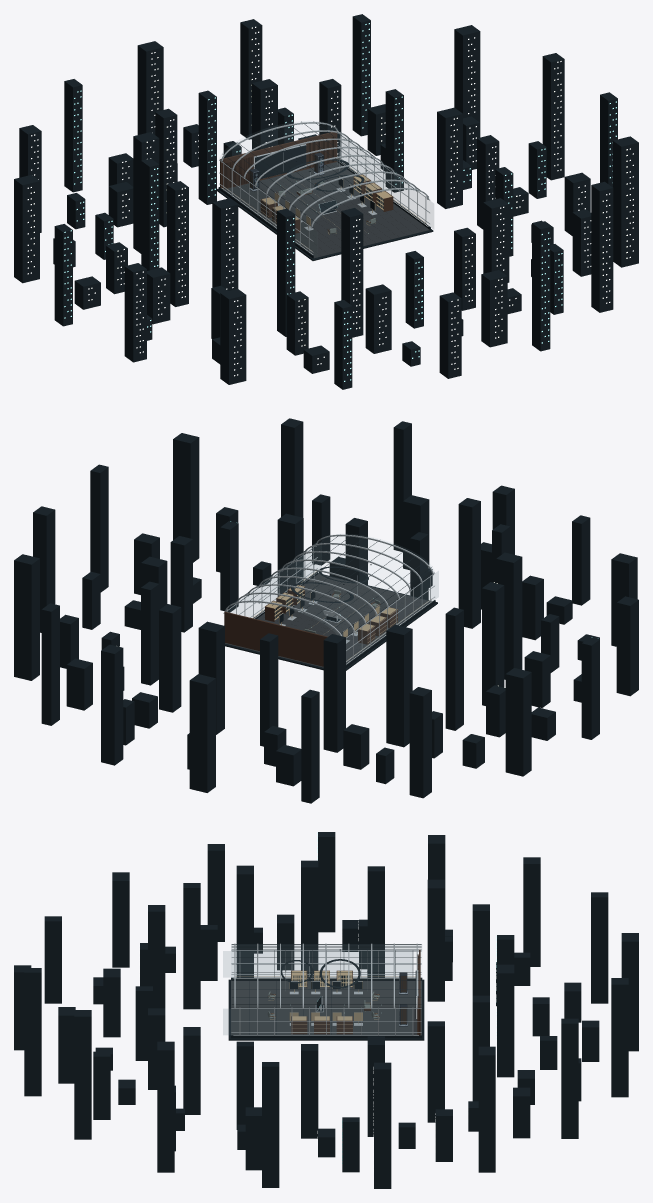
Rendered from resonance-pavilion.glb.
3 renders of one model, top to bottom at view 1: azimuth 30°, elevation 25°; view 2: azimuth 150°, elevation 25°; view 3: azimuth 270°, elevation 25°, orthographic.
Parts seen in each view (by area): view 1: graphite (×2), basalt, brushed-aluminium, architectural-glass, warm-light, walnut, cyan-light; view 2: graphite, basalt, brushed-aluminium, architectural-glass, walnut; view 3: graphite, architectural-glass, basalt, brushed-aluminium, warm-light.
Part boxes in pixels (x1,y1,x2,y2): graphite (×2): (14, 14, 638, 389); basalt: (224, 162, 429, 258); brushed-aluminium: (219, 122, 430, 252); architectural-glass: (224, 130, 433, 257); warm-light: (27, 26, 633, 376); walnut: (220, 131, 337, 189); cyan-light: (64, 23, 616, 381); graphite: (14, 418, 638, 803); basalt: (225, 574, 431, 667); brushed-aluminium: (223, 534, 434, 661); architectural-glass: (228, 542, 438, 663); walnut: (224, 611, 327, 666); graphite: (14, 832, 638, 1188); architectural-glass: (223, 944, 421, 1034); basalt: (231, 980, 421, 1035); brushed-aluminium: (231, 943, 421, 1035); warm-light: (139, 921, 517, 1179).
Bounding box in the file's own units: 136 × 29.97 × 137.
